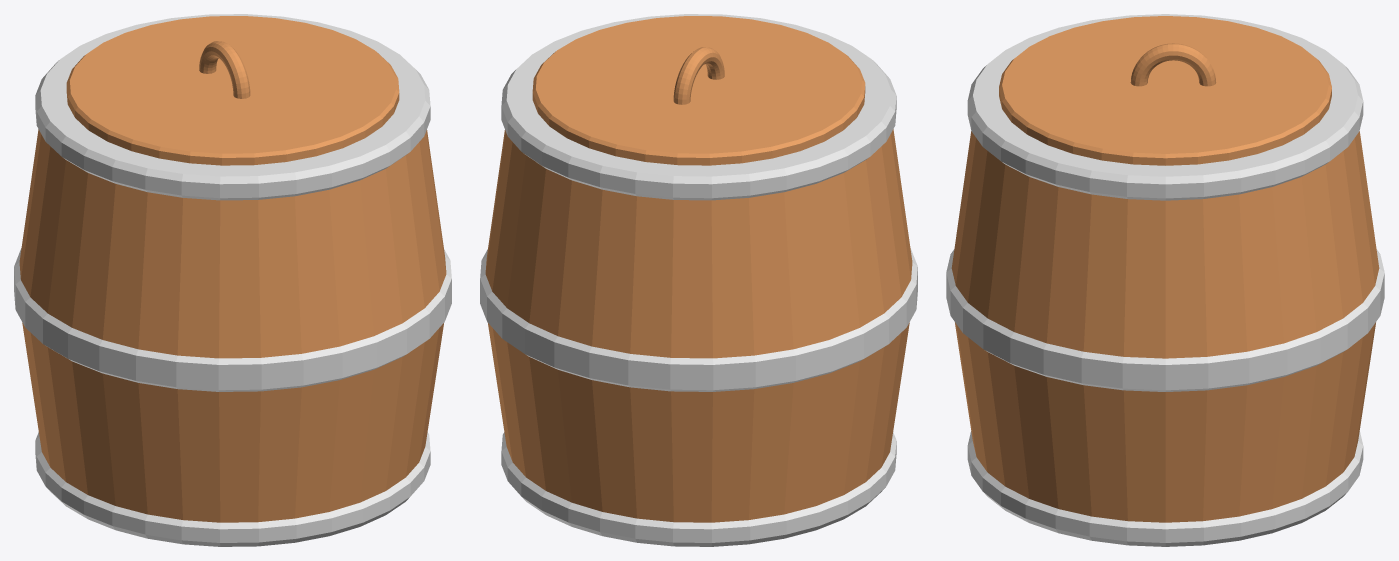
File: Game Modele_Fass.fbx
3 views of the same model, side by side, from view 1: azimuth 30°, elevation 25°; view 2: azimuth 150°, elevation 25°; view 3: azimuth 270°, elevation 25° (orthographic).
Parts seen in each view (by area): view 1: Fass; view 2: Fass; view 3: Fass.
Boxes of the visible parts, x1,y1,x2,y2 form: Fass: (14, 14, 451, 546); Fass: (480, 14, 917, 546); Fass: (946, 14, 1384, 546).
Bounding box in the file's own units: 37.53 × 39.61 × 37.53.
